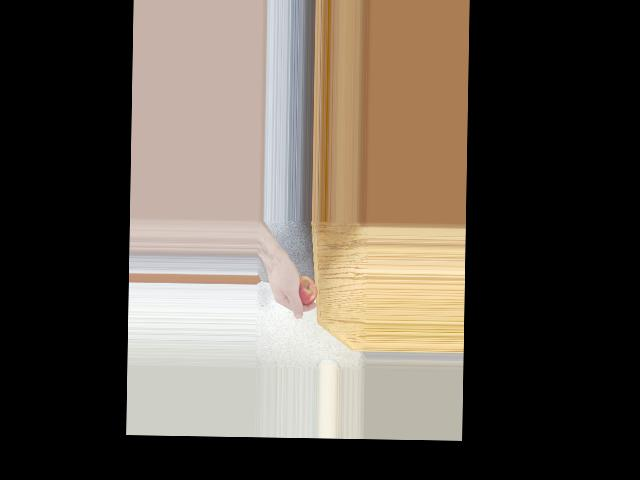apple: (287, 273, 319, 306)
